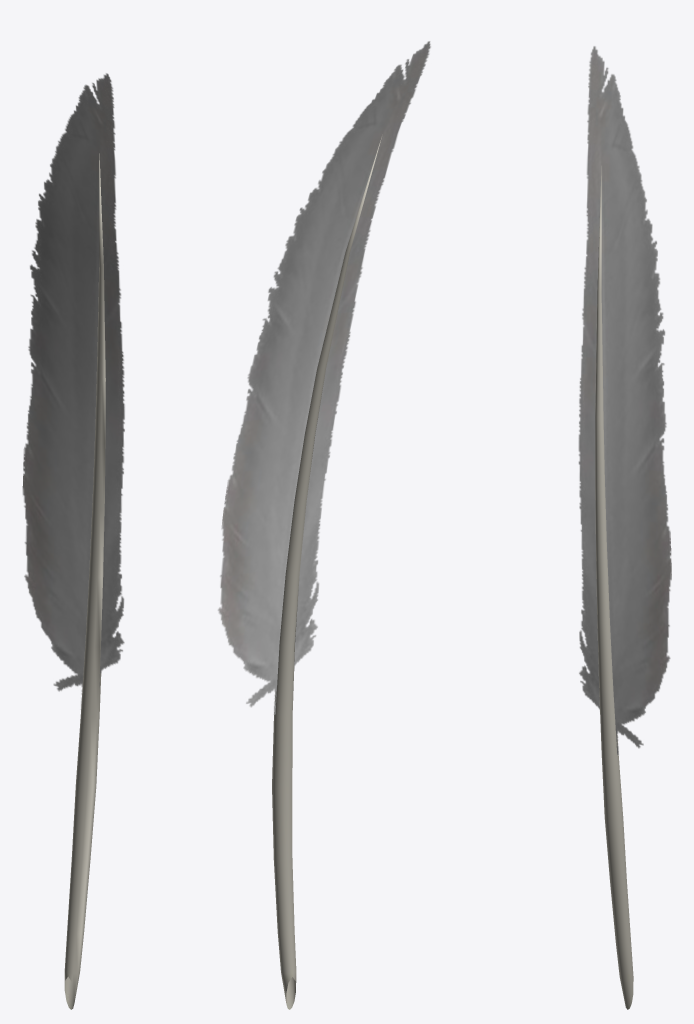
The model's file is quill.glb.
3 renders of one model, left to right at view 1: azimuth 90°, elevation 25°; view 2: azimuth 150°, elevation 25°; view 3: azimuth 270°, elevation 25°, orthographic. The views are drawn at different scales.
Parts seen in each view (by area): view 1: Quill; view 2: Quill; view 3: Quill.
Boxes of the visible parts, <box> form: Quill: <box>22,73,124,1009</box>; Quill: <box>218,41,430,1009</box>; Quill: <box>578,46,671,1009</box>.
Size of the model in its own units: 81.2 by 365 by 52.02.
1 material, 1 textured.
